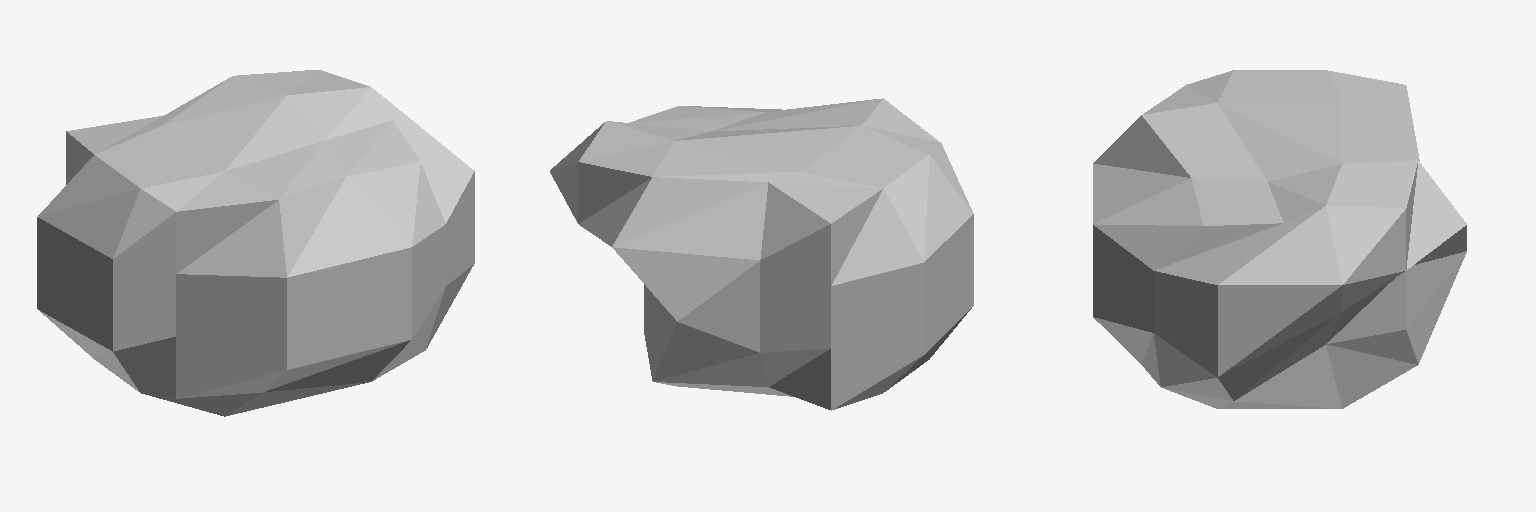
File: asteroid1.obj
The picture shows the model from 3 angles: view 1: azimuth 30°, elevation 25°; view 2: azimuth 150°, elevation 25°; view 3: azimuth 270°, elevation 25°; orthographic projection.
Visible parts, largest first — view 1: pCube1; view 2: pCube1; view 3: pCube1.
Part boxes in pixels (bbox=[...]): pCube1: bbox=[37, 70, 474, 416]; pCube1: bbox=[550, 98, 973, 410]; pCube1: bbox=[1093, 70, 1466, 408].
Bounding box in the file's own units: 4.36 × 2.72 × 3.77.